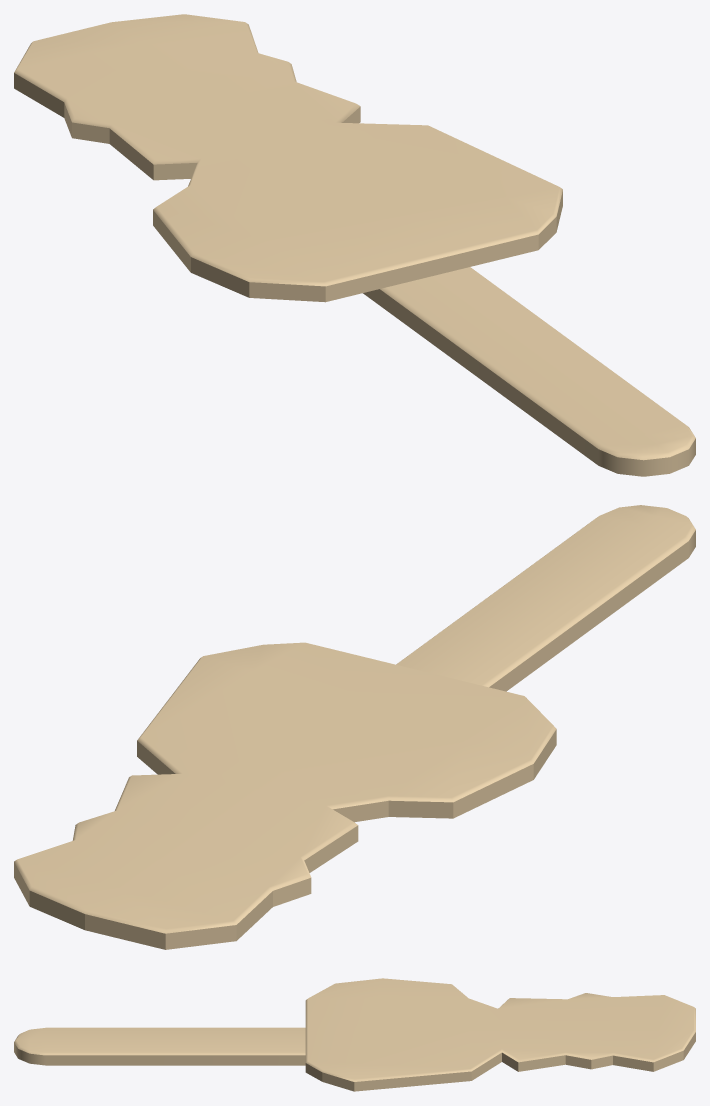
File: fakeporter-model.fbx
The picture shows the model from 3 angles, top to bottom: view 1: azimuth 30°, elevation 25°; view 2: azimuth 150°, elevation 25°; view 3: azimuth 270°, elevation 25°; orthographic projection. The views are drawn at different scales.
Parts seen in each view (by area): view 1: fakeporter; view 2: fakeporter; view 3: fakeporter.
Boxes of the visible parts, <box> form: fakeporter: <box>14,14,695,476</box>; fakeporter: <box>14,505,695,949</box>; fakeporter: <box>14,978,695,1091</box>.
Bounding box in the file's own units: 62.31 × 6.64 × 175.
